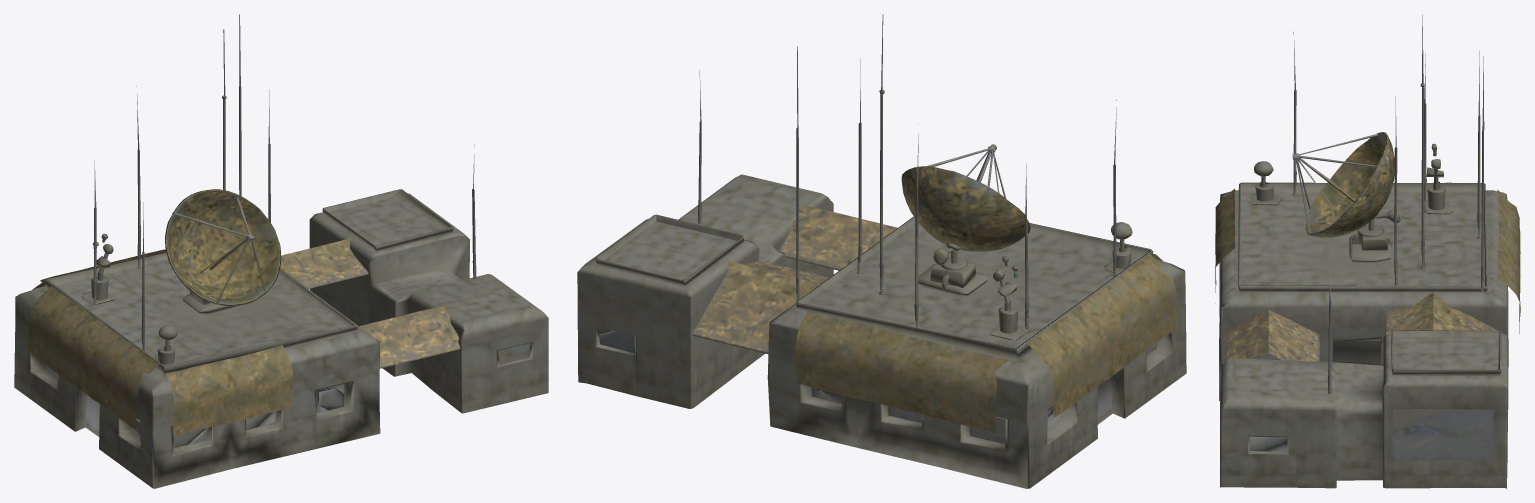
3 views of the same model, side by side, from view 1: azimuth 30°, elevation 25°; view 2: azimuth 150°, elevation 25°; view 3: azimuth 270°, elevation 25° (orthographic). The views are drawn at different scales.
Visible parts, largest first — view 1: geometry_0; view 2: geometry_0; view 3: geometry_0.
Part boxes in pixels (bbox=[...]): geometry_0: bbox=[14, 14, 548, 488]; geometry_0: bbox=[577, 14, 1186, 488]; geometry_0: bbox=[1215, 14, 1520, 488].
Size of the model in its own units: 1 by 0.835 by 0.6412.
1 material, 1 textured.
